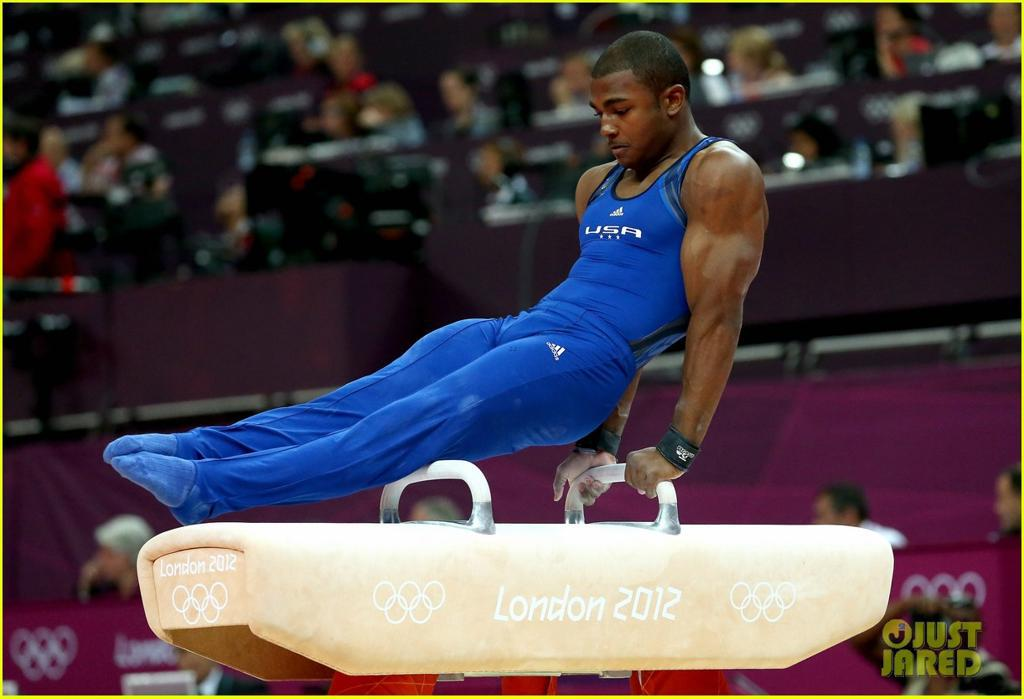face: (587, 67, 659, 169)
